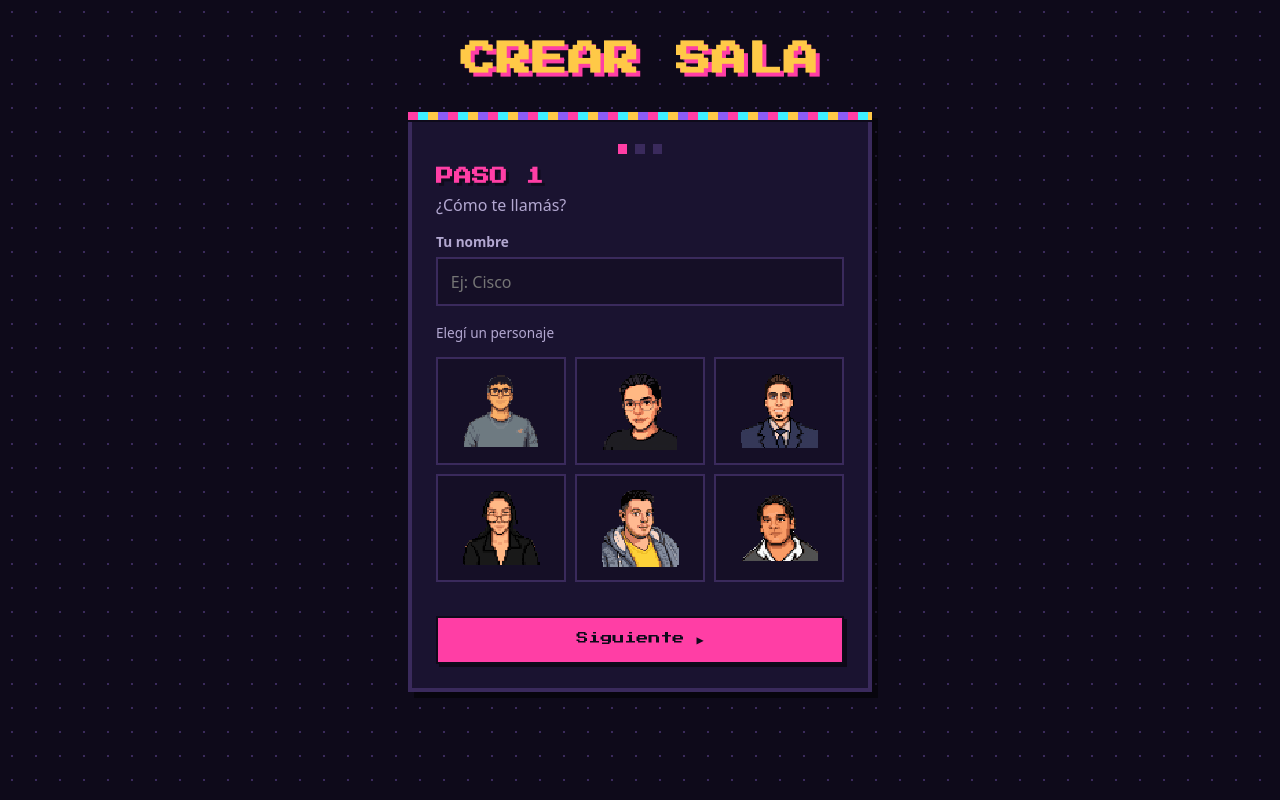
Test: CreateRoomPage — formulario no envía vacío › no avanza del paso 1 sin elegir un personaje
Step 1. Type "Cisco" into the field labelled "Tu nombre" → [640, 282], box x1=436 y1=257 x2=844 y2=306
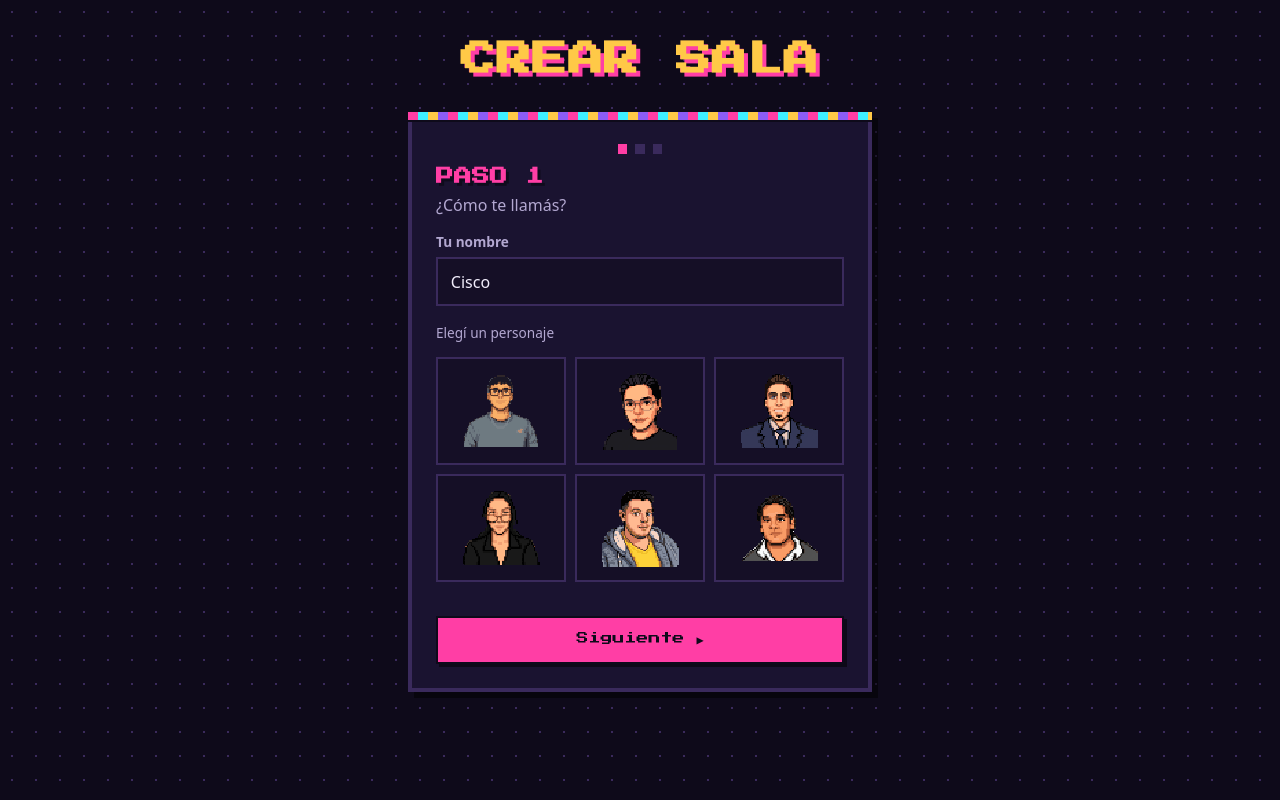
Step 2. Click the button "Siguiente ▶" → [640, 640], box x1=436 y1=616 x2=844 y2=664
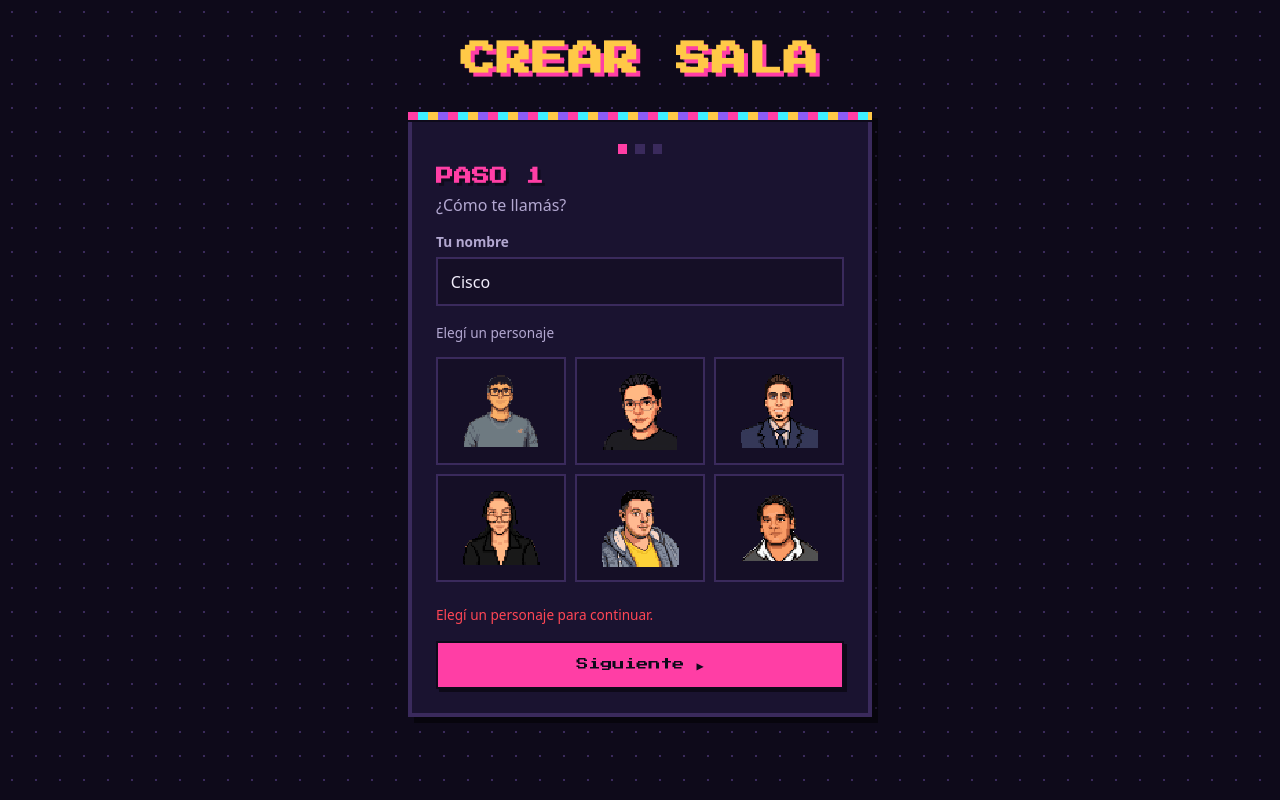
Now the text "Elegí un personaje para continuar." is shown, box x1=436 y1=605 x2=653 y2=624
